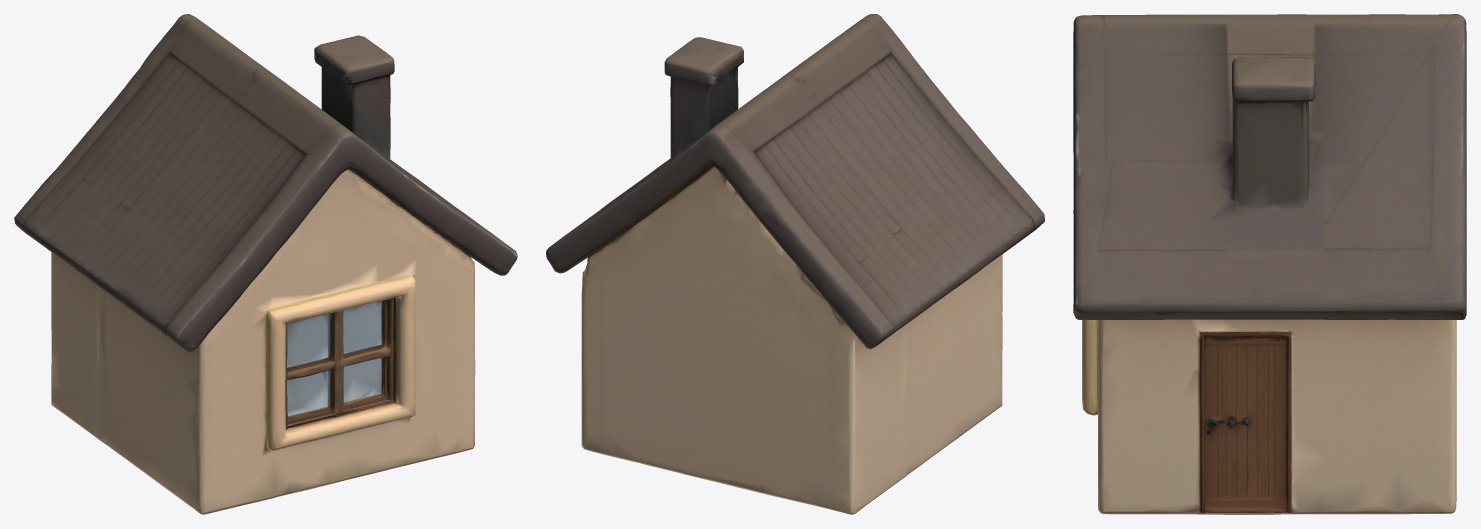
Rendered from 3d-animation.glb.
3 renders of one model, left to right at view 1: azimuth 30°, elevation 25°; view 2: azimuth 150°, elevation 25°; view 3: azimuth 270°, elevation 25°, orthographic. The views are drawn at different scales.
Bounding box in the file's own units: 2 × 1.99 × 1.69.
Materials: 1 (1 with a texture image).
